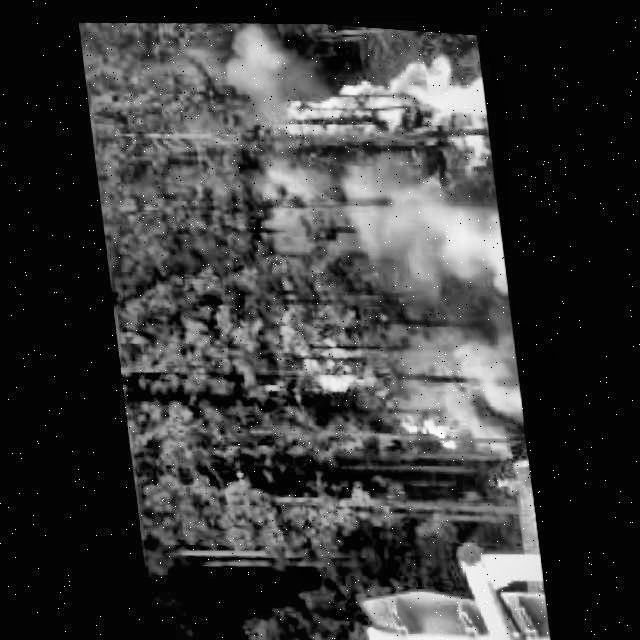Fire: (267, 28, 491, 195), (297, 325, 371, 383), (391, 401, 451, 444)
Smoke: (260, 151, 525, 464), (211, 12, 315, 103)
